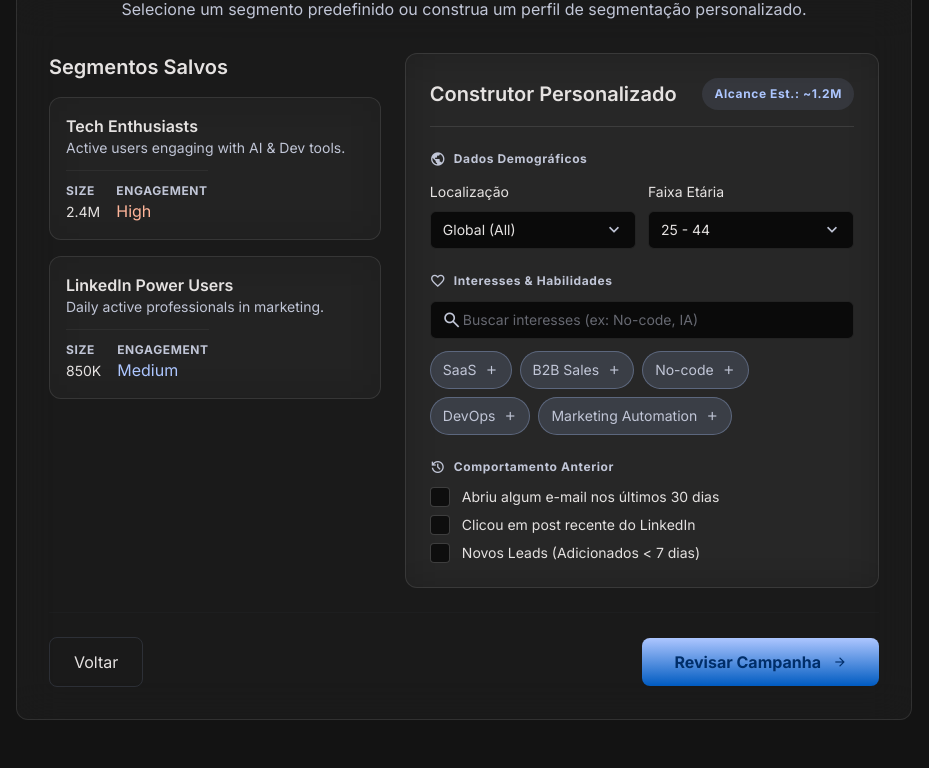
NewCampaignWizard › Step 3 audience validation › blocks advancing when no audience is configured and shows required error
The width and height of the screenshot is (929, 768).
(page scrolled)
Click Continue without configuring audience
Click the button "Revisar Campanha" at (761, 662), box x1=642 y1=638 x2=879 y2=686
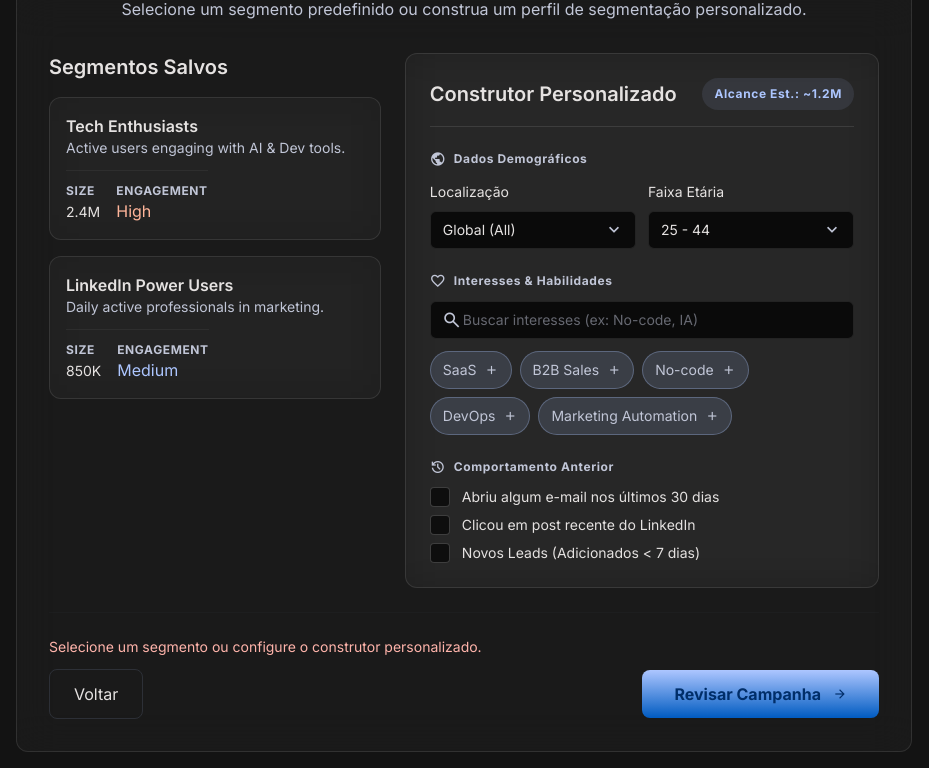
Expected: the text "Selecione um segmento ou configure o construtor personalizado" is shown, x1=49 y1=638 x2=482 y2=655
